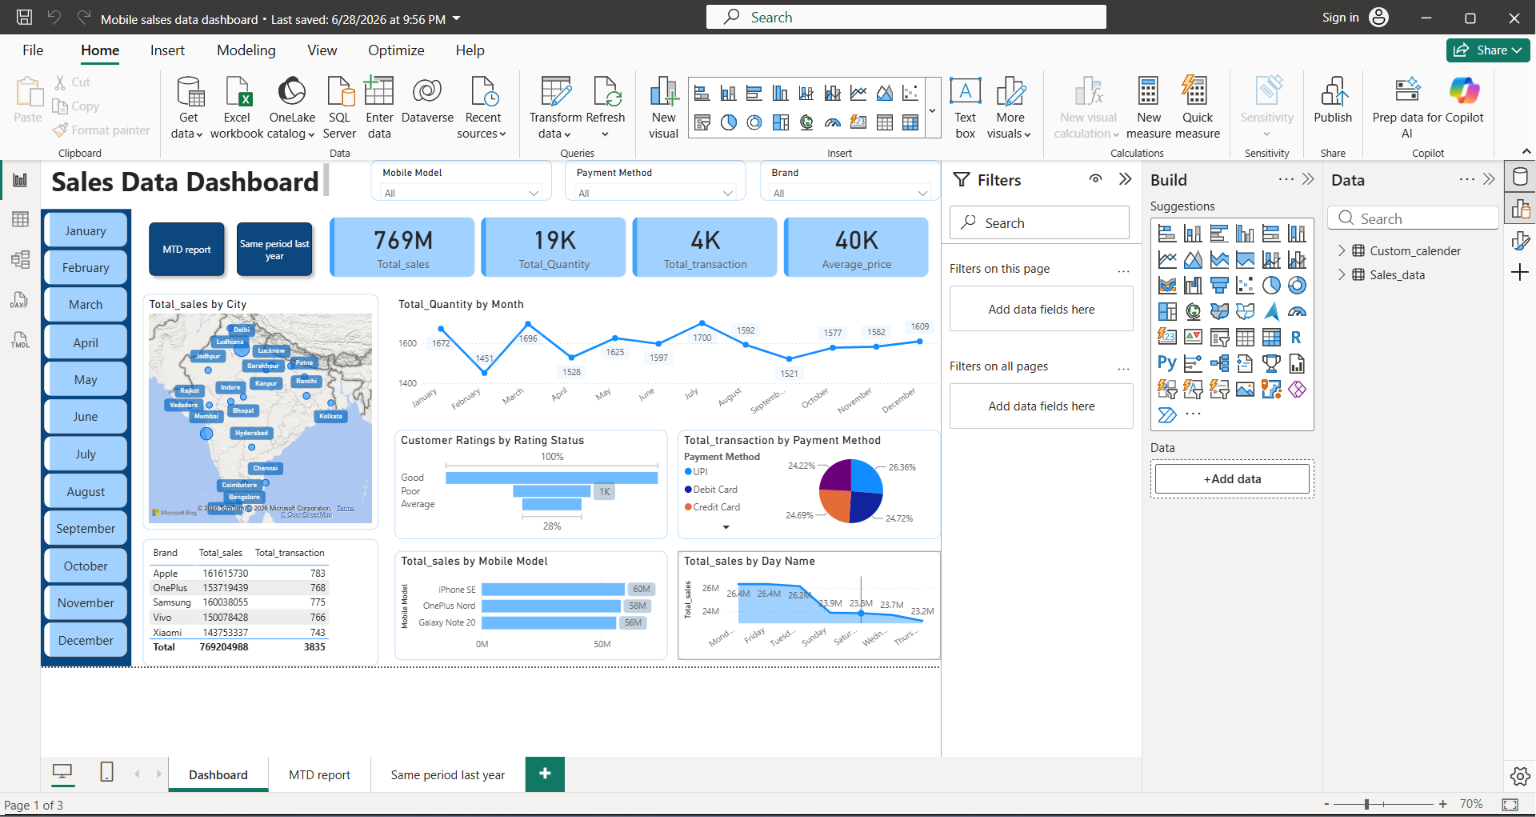

This screenshot's page, from the dashboard's own definition file:
{"tool":"powerbi","page":{"name":"Dashboard","canvas":[1280,720],"ordinal":0},"visuals":[{"type":"textbox","box":[9.6,0,404.8,57.6],"z":0},{"type":"advancedSlicerVisual","fields":{"Values":["Custom_calender.Date.Variation.Date Hierarchy.Month"]},"box":[0,70,129,650.4],"z":1000},{"type":"cardVisual","fields":{"Data":["Sales_data.Total_sales","Sales_data.Total_Quantity","Sales_data.Total_transaction","Sales_data.Average_price"]},"box":[393.8,64.5,886.5,120.8],"z":2000},{"type":"slicer","fields":{"Values":["Sales_data.Mobile Model"]},"box":[469.3,0,258,57.6],"z":3000},{"type":"slicer","fields":{"Values":["Sales_data.Brand"]},"box":[1022.3,0,258,57.6],"z":4000},{"type":"slicer","fields":{"Values":["Sales_data.Payment Method"]},"box":[745.1,0,258,57.6],"z":5000},{"type":"map","fields":{"Category":["Sales_data.City"],"Size":["Sales_data.Total_sales"]},"box":[145.5,190.7,334.8,334.8],"z":6000},{"type":"lineChart","fields":{"Category":["Custom_calender.Date.Variation.Date Hierarchy.Month"],"Y":["Sales_data.Total_Quantity"]},"box":[503.6,194.9,776.7,179.8],"z":7000},{"type":"funnel","title":"Customer Ratings by Rating Status","fields":{"Y":["CountNonNull(Sales_data.Customer Ratings)"],"Category":["Sales_data.Rating Status"]},"box":[503.6,384.2,388.3,155.1],"z":8000},{"type":"pieChart","fields":{"Category":["Sales_data.Payment Method"],"Y":["Sales_data.Total_transaction"]},"box":[905.7,384.2,374.6,155.1],"z":9000},{"type":"clusteredBarChart","fields":{"Y":["Sales_data.Total_sales"],"Category":["Sales_data.Mobile Model"]},"box":[503.6,555.7,388.3,155.1],"z":10000},{"type":"areaChart","fields":{"Category":["Custom_calender.Day Name"],"Y":["Sales_data.Total_sales"]},"box":[905.7,555.7,374.6,155.1],"z":11000},{"type":"tableEx","fields":{"Values":["Sales_data.Brand","Sales_data.Total_sales","Sales_data.Total_transaction"]},"box":[145.5,539.3,334.8,181.1],"z":12000},{"type":"pageNavigator","box":[145.5,79.6,248.4,94.7],"z":13000}]}

Visuals, with their boxes on the page's 1280x720 design canvas (x1, y1, x2, y2). These are canvas units, not pixel positions in the 1536x817 screenshot, which may show the page scaled, cropped or inside an application window:
textbox: 10:0:414:58
advancedSlicerVisual - Custom_calender.Date.Variation.Date Hierarchy.Month: 0:70:129:720
cardVisual - Sales_data.Total_sales x Sales_data.Total_Quantity: 394:64:1280:185
slicer - Sales_data.Mobile Model: 469:0:727:58
slicer - Sales_data.Brand: 1022:0:1280:58
slicer - Sales_data.Payment Method: 745:0:1003:58
map - Sales_data.City x Sales_data.Total_sales: 146:191:480:526
lineChart - Custom_calender.Date.Variation.Date Hierarchy.Month x Sales_data.Total_Quantity: 504:195:1280:375
"Customer Ratings by Rating Status" funnel: 504:384:892:539
pieChart - Sales_data.Payment Method x Sales_data.Total_transaction: 906:384:1280:539
clusteredBarChart - Sales_data.Total_sales x Sales_data.Mobile Model: 504:556:892:711
areaChart - Custom_calender.Day Name x Sales_data.Total_sales: 906:556:1280:711
tableEx - Sales_data.Brand x Sales_data.Total_sales: 146:539:480:720
pageNavigator: 146:80:394:174
